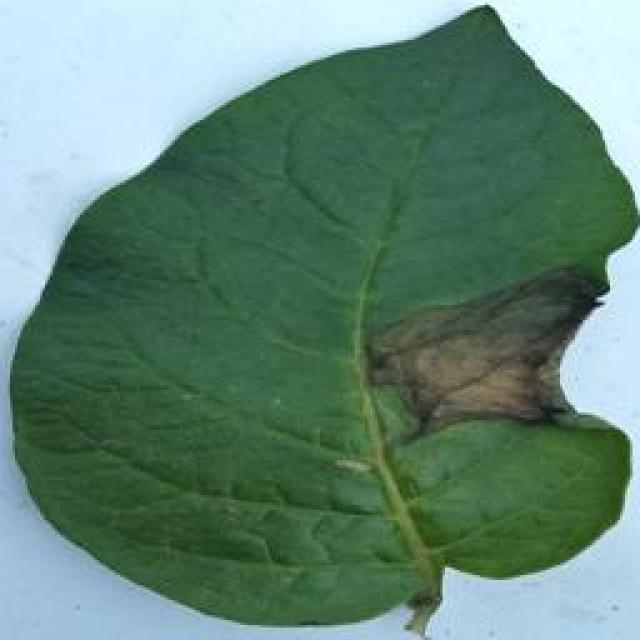Potato_Late_Blight: (16, 3, 632, 627)
